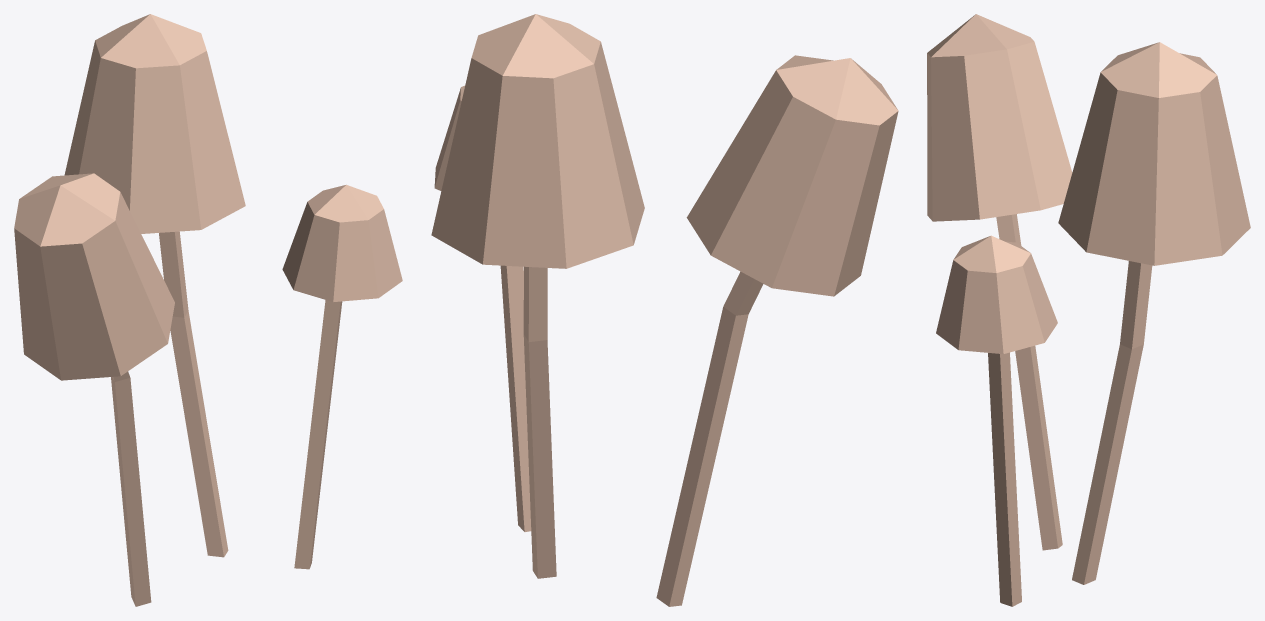
Rendered from mushroom2.fbx.
3 renders of one model, left to right at view 1: azimuth 30°, elevation 25°; view 2: azimuth 150°, elevation 25°; view 3: azimuth 270°, elevation 25°, orthographic. The views are drawn at different scales.
Visible parts, largest first — view 1: Mushroom_b_05; view 2: Mushroom_b_05; view 3: Mushroom_b_05.
Part boxes in pixels (bbox=[...]): Mushroom_b_05: bbox=[14, 14, 402, 606]; Mushroom_b_05: bbox=[431, 14, 898, 606]; Mushroom_b_05: bbox=[927, 14, 1250, 606].
Size of the model in its own units: 23.43 by 32.09 by 43.09.
1 material, 1 textured.
